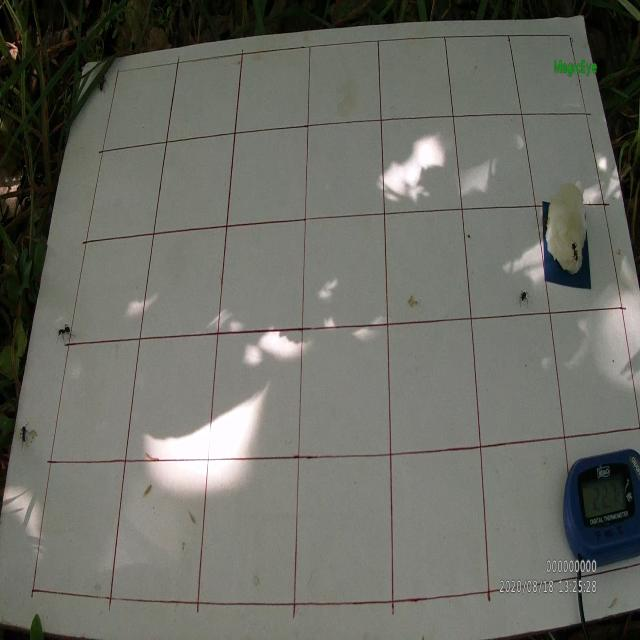Ant: (54, 324, 76, 346), (19, 421, 31, 450), (568, 239, 580, 264), (518, 288, 529, 308), (97, 75, 108, 94), (543, 213, 550, 233)
